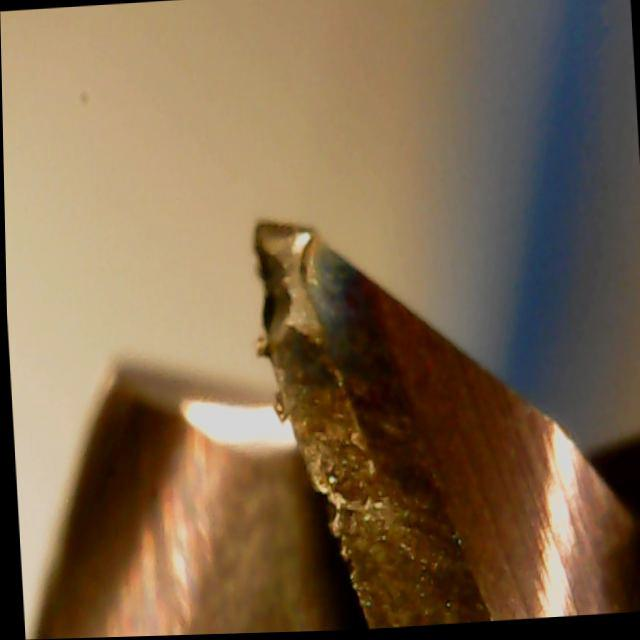Tool-wear-class-2: (241, 212, 390, 590)
